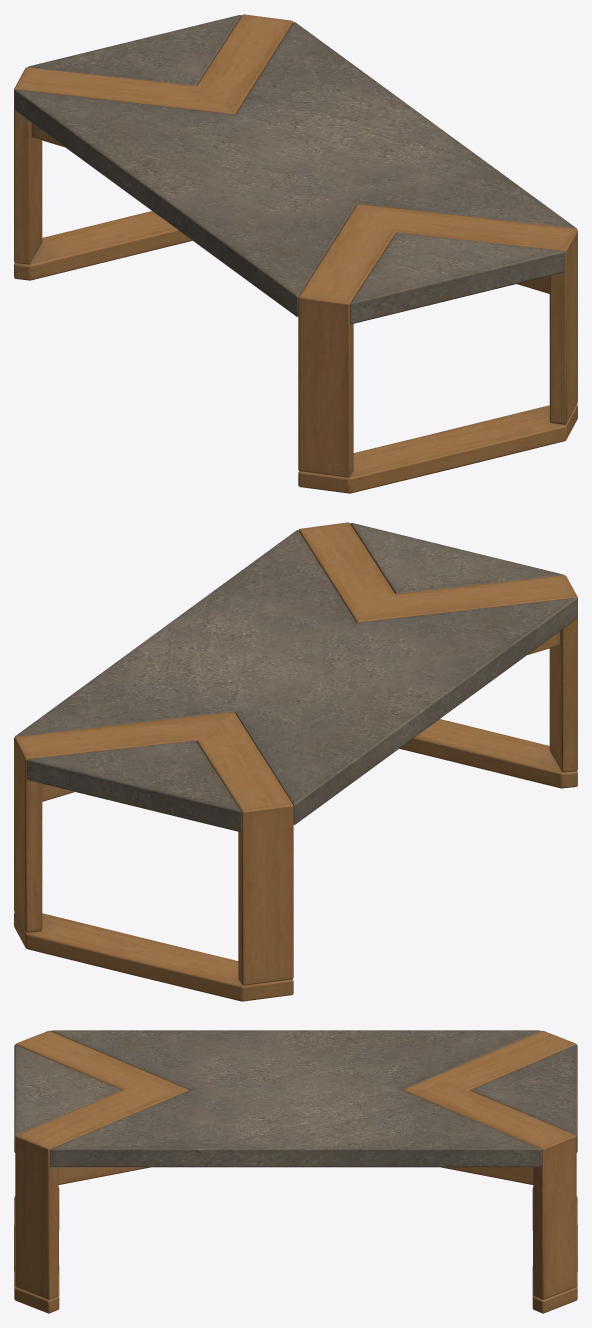
File: modern_coffee_table_01.glb
The picture shows the model from 3 angles, top to bottom: view 1: azimuth 30°, elevation 25°; view 2: azimuth 150°, elevation 25°; view 3: azimuth 270°, elevation 25°; orthographic projection. The views are drawn at different scales.
Parts seen in each view (by area): view 1: modern_coffee_table_01; view 2: modern_coffee_table_01; view 3: modern_coffee_table_01.
Part boxes in pixels (x1,y1,x2,y2): modern_coffee_table_01: [14, 14, 577, 493]; modern_coffee_table_01: [14, 522, 577, 1001]; modern_coffee_table_01: [14, 1030, 577, 1313].
Bounding box in the file's own units: 0.5999 × 0.39 × 1.2.
Materials: 1 (1 with a texture image).
